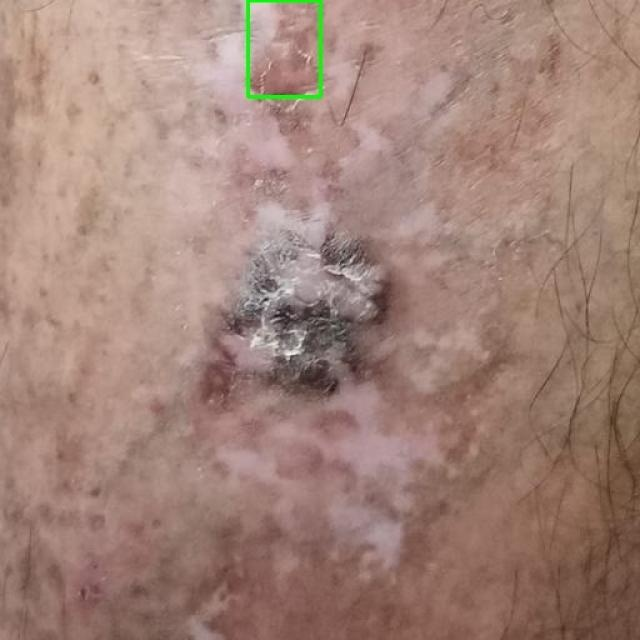Eczema: (248, 0, 320, 96)
